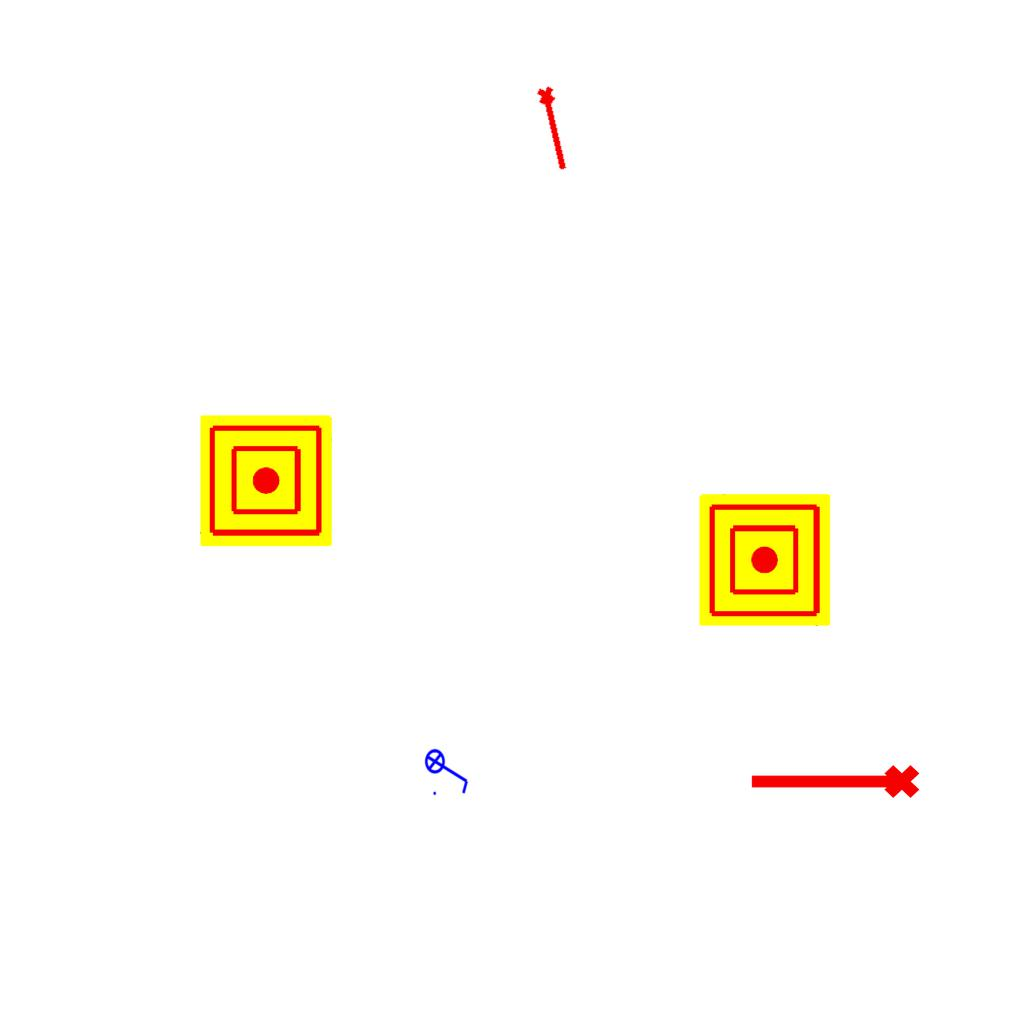ASR_Ansaugoeffnung: (746, 761, 922, 807), (533, 83, 577, 174)
Ausschalter_beleuchtet: (424, 742, 472, 798)
NAM-Nichtautomatischer_Melder: (200, 415, 332, 547), (699, 494, 831, 626)
